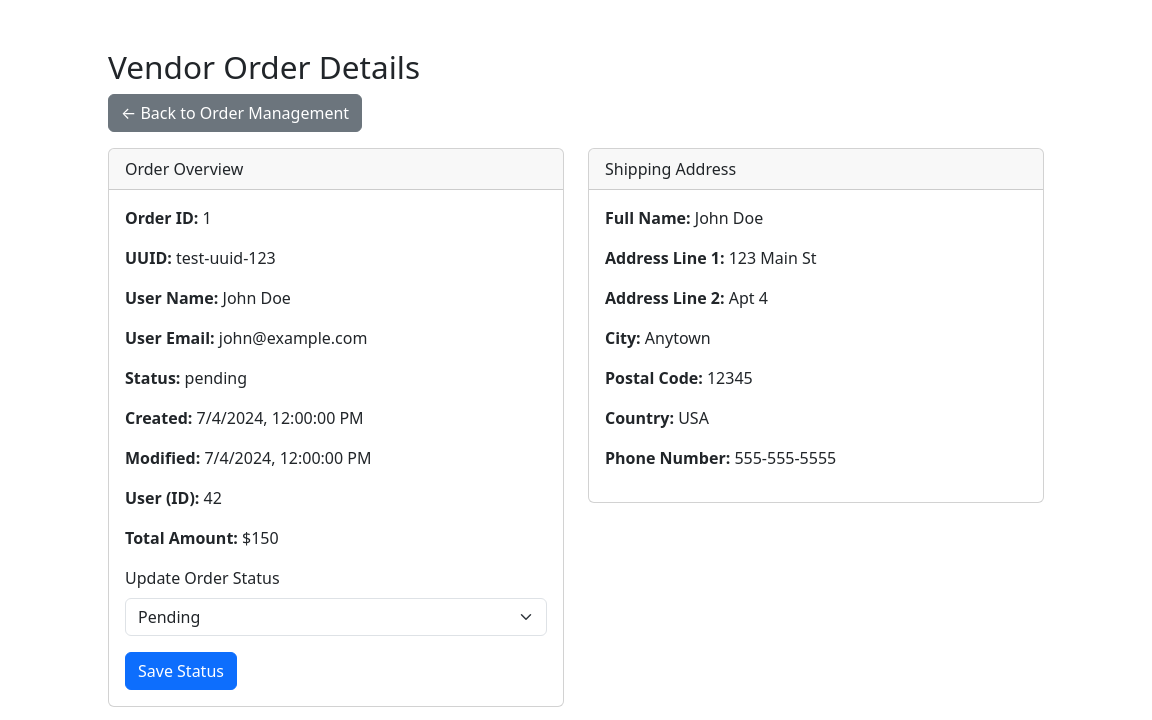
Test: VendorOrderDetails › renders order details and updates status
The image size is (1152, 720).
Check: the text "Order Overview" is shown, box [109,149,563,190]
Note: change status to "shipped"
Select "Shipped" in the dropdown labelled "Update Order Status" at (336, 617), box [125,598,547,636]
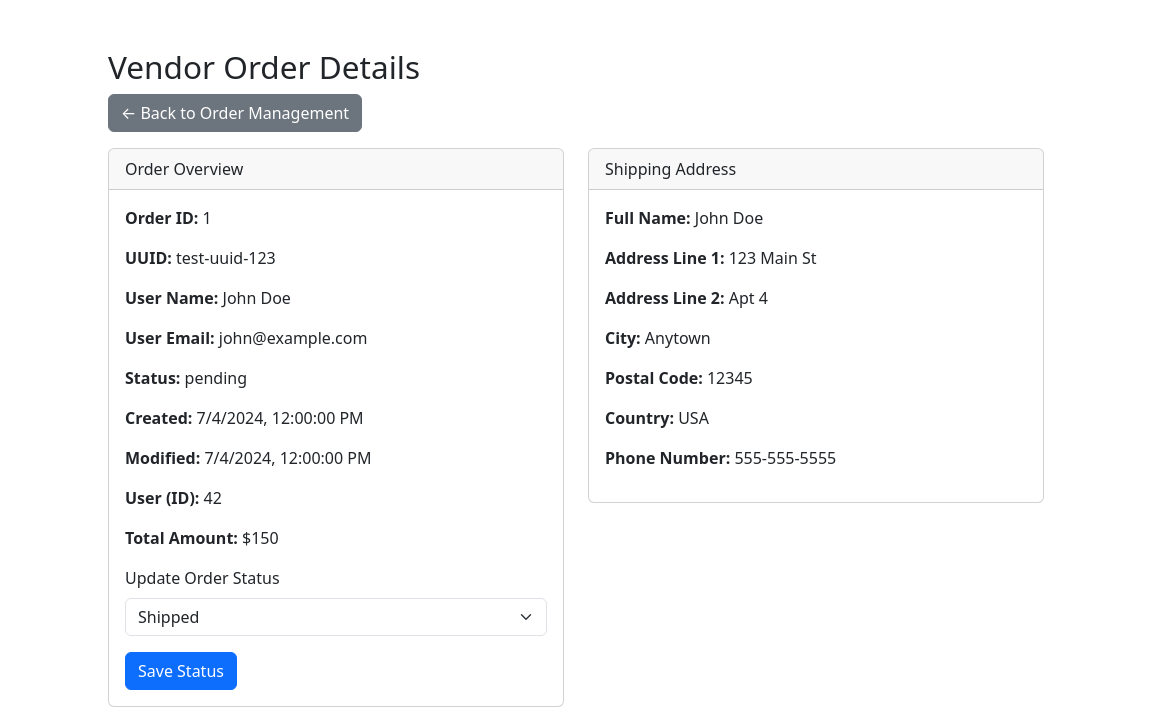
Note: click "Save Status"
Click the button "Save Status".
click(181, 671)  # box [125,652,237,690]
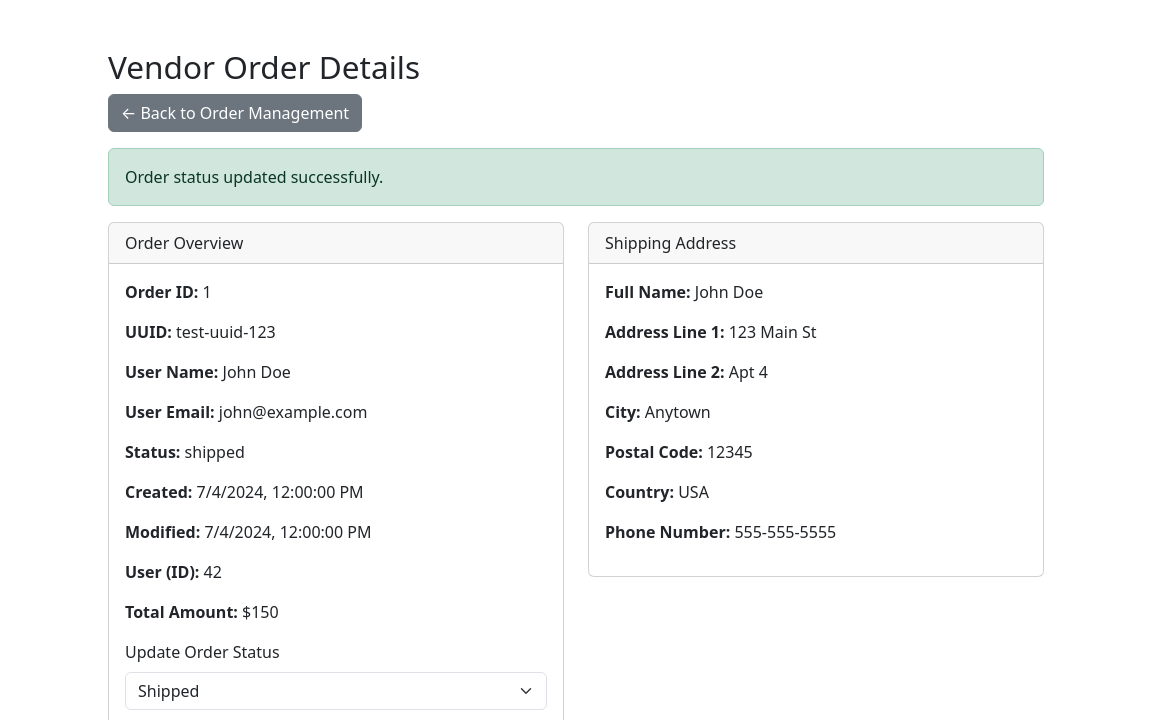
Check: the text "Order status updated successfully." is shown, box [108,148,1044,206]
